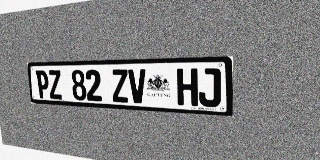2: (85, 69, 102, 101)
8: (71, 70, 87, 101)
H: (177, 68, 198, 106)
J: (198, 68, 221, 107)
P: (35, 70, 50, 99)
V: (128, 69, 147, 104)
Z: (111, 69, 129, 103), (48, 70, 63, 99)
